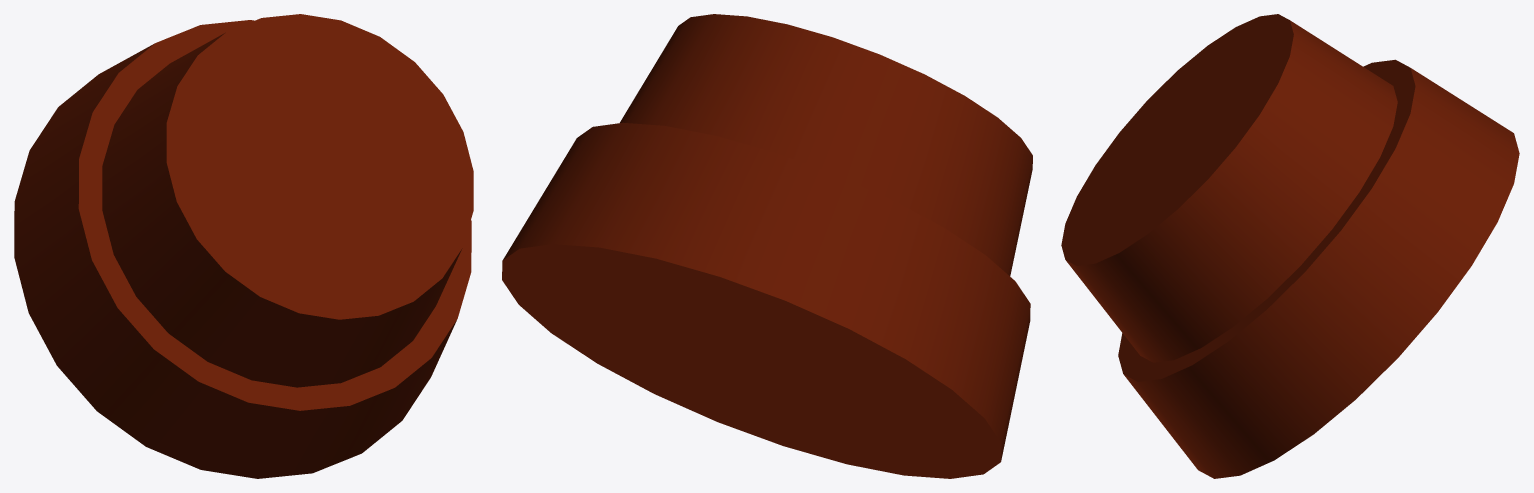
File: original-25.obj
The picture shows the model from 3 angles, left to right: view 1: azimuth 30°, elevation 25°; view 2: azimuth 150°, elevation 25°; view 3: azimuth 270°, elevation 25°; orthographic projection. The views are drawn at different scales.
Visible parts, largest first — view 1: Group25/mesh161/mesh161-geometry#mesh161-geometry; view 2: Group25/mesh161/mesh161-geometry#mesh161-geometry; view 3: Group25/mesh161/mesh161-geometry#mesh161-geometry.
Part boxes in pixels (left/top/right/bottom): Group25/mesh161/mesh161-geometry#mesh161-geometry: left=14, top=14, right=473, bottom=478; Group25/mesh161/mesh161-geometry#mesh161-geometry: left=502, top=14, right=1032, bottom=478; Group25/mesh161/mesh161-geometry#mesh161-geometry: left=1061, top=14, right=1519, bottom=478.
Bounding box in the file's own units: 0.071 × 0.0704 × 0.0704.
